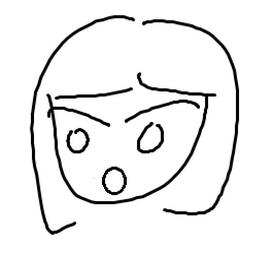empty_eye: (135, 122, 168, 158), (62, 126, 99, 158)
frowning_eyebrow: (121, 97, 203, 125), (41, 105, 113, 127)
open_mouth: (80, 164, 142, 205)
